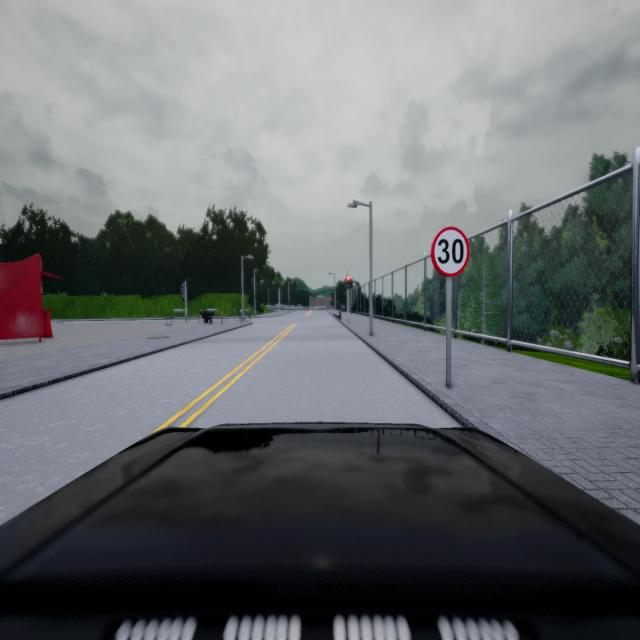Speed Limit -30-: (430, 226, 469, 278)
